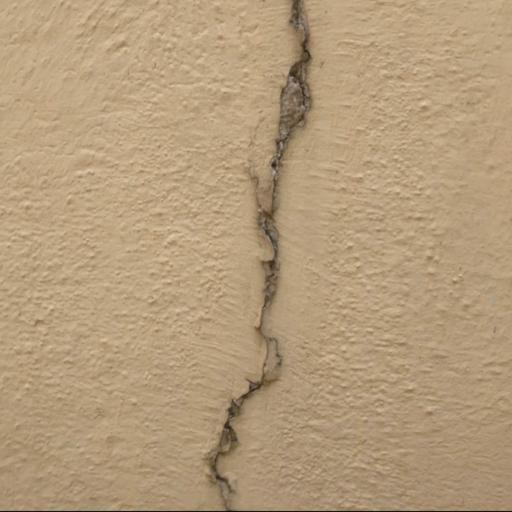minor_crack: (170, 0, 324, 512)
